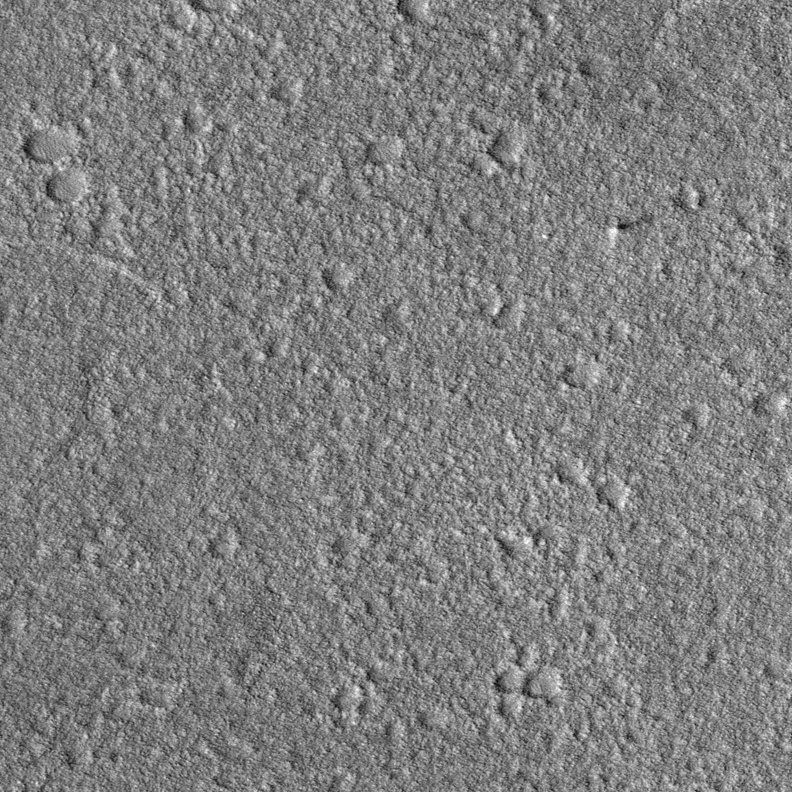dust_devil: (609, 219, 639, 241)
